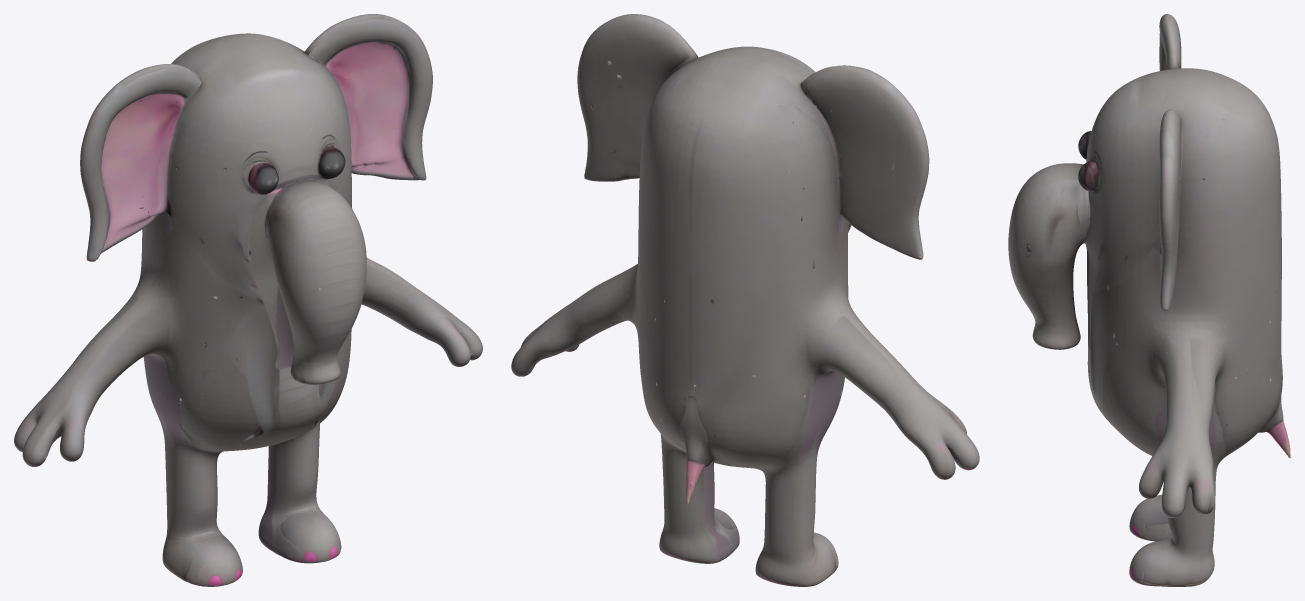
File: ELEPHANT.fbx
3 renders of one model, left to right at view 1: azimuth 30°, elevation 25°; view 2: azimuth 150°, elevation 25°; view 3: azimuth 270°, elevation 25°, orthographic. The views are drawn at different scales.
Parts seen in each view (by area): view 1: Mesh_0.557; view 2: Mesh_0.557; view 3: Mesh_0.557.
Boxes of the visible parts, x1=… form: Mesh_0.557: x1=14, y1=14, x2=482, y2=586; Mesh_0.557: x1=511, y1=14, x2=979, y2=586; Mesh_0.557: x1=1008, y1=14, x2=1290, y2=586.
Size of the model in its own units: 185 by 200 by 106.
1 material, 1 textured.
